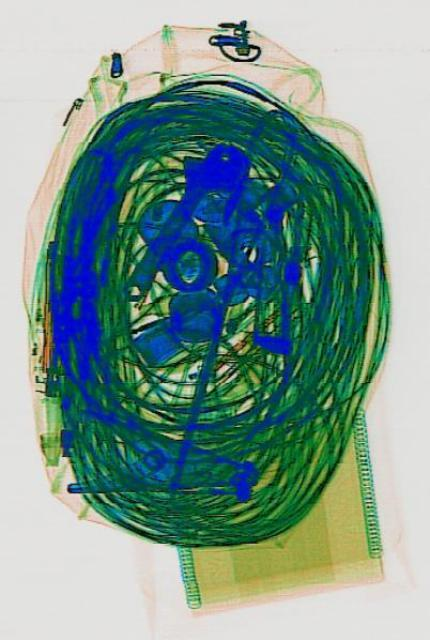Pliers: (63, 400, 254, 518)
Wrench: (104, 111, 253, 325)
